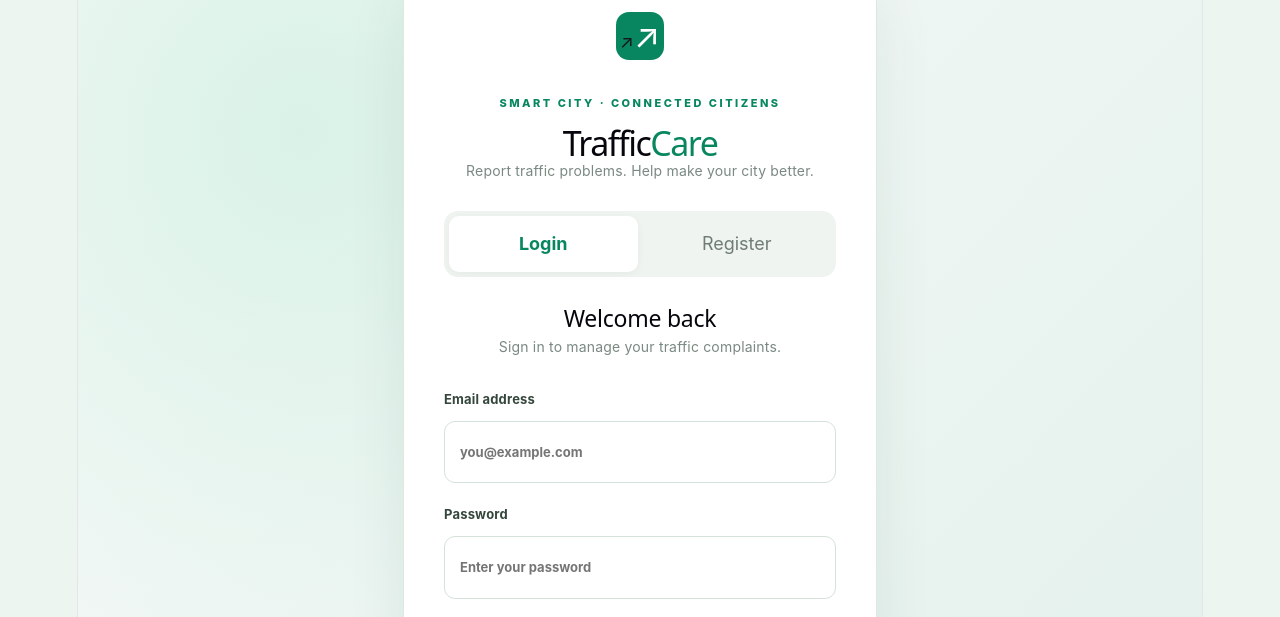
Test: TrafficCare App › submits registration details successfully
The width and height of the screenshot is (1280, 617).
Click the button "Register" at [737, 244], box [642,216,831,272]
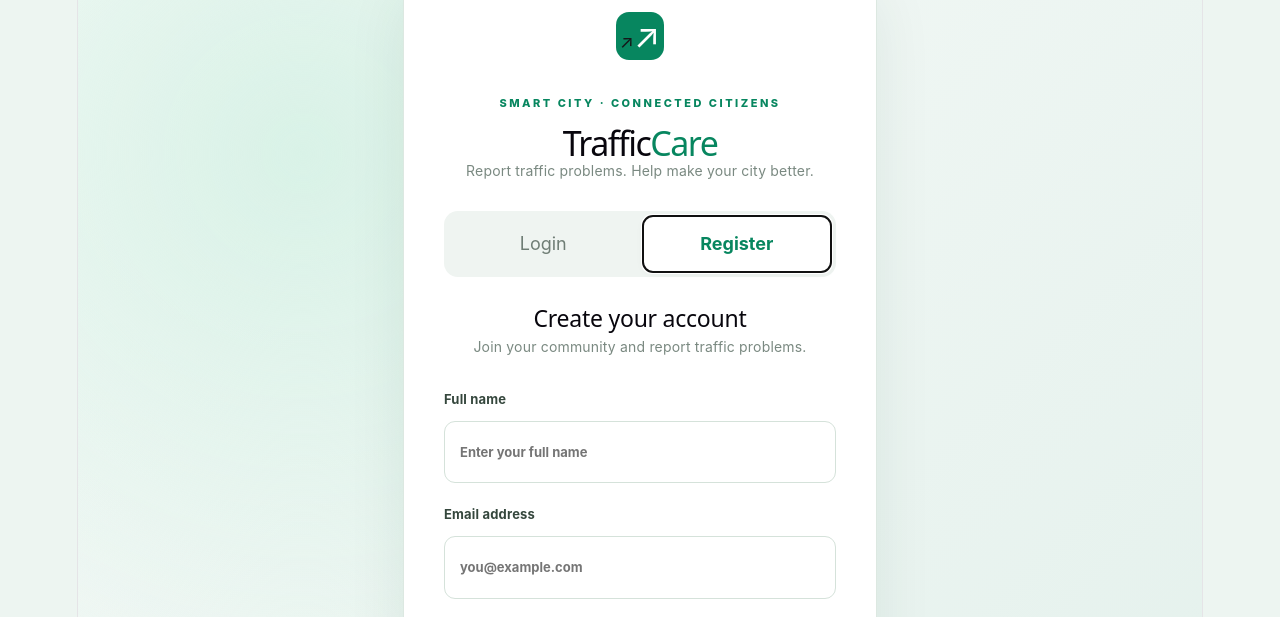
Type "Test User" into the field with placeholder "Enter your full name" at [640, 452], box [444,421,836,483]
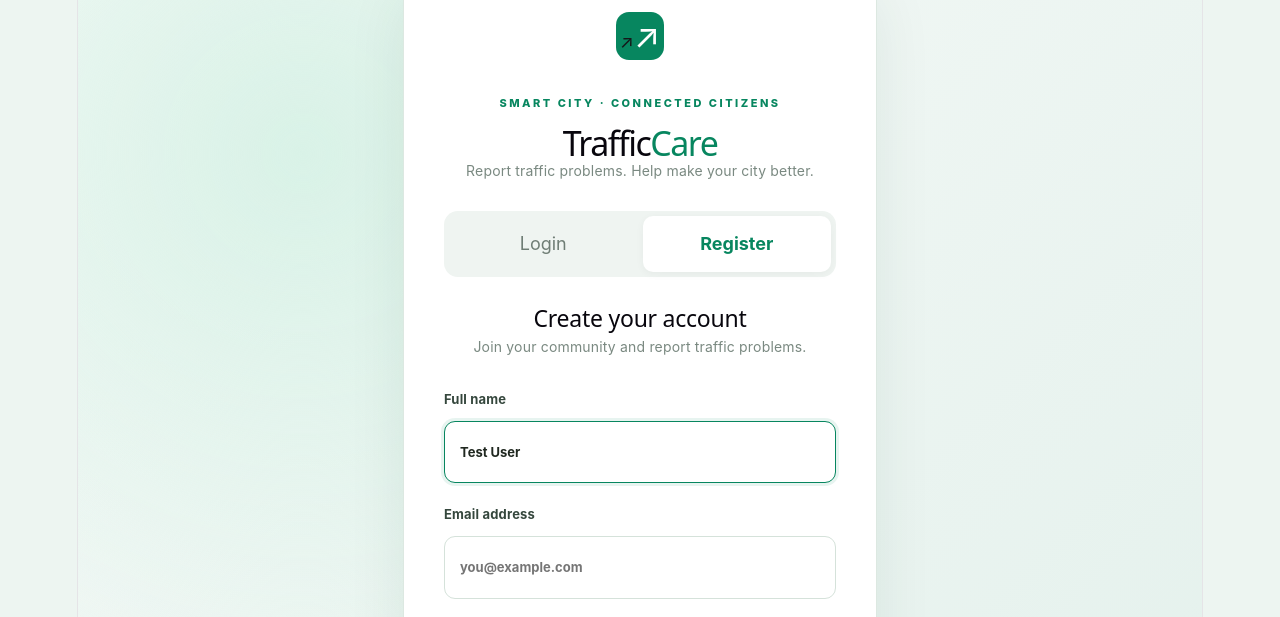
Type "test@example.com" into the field with placeholder "you@example.com" at [640, 568], box [444,536,836,599]
(page scrolled)
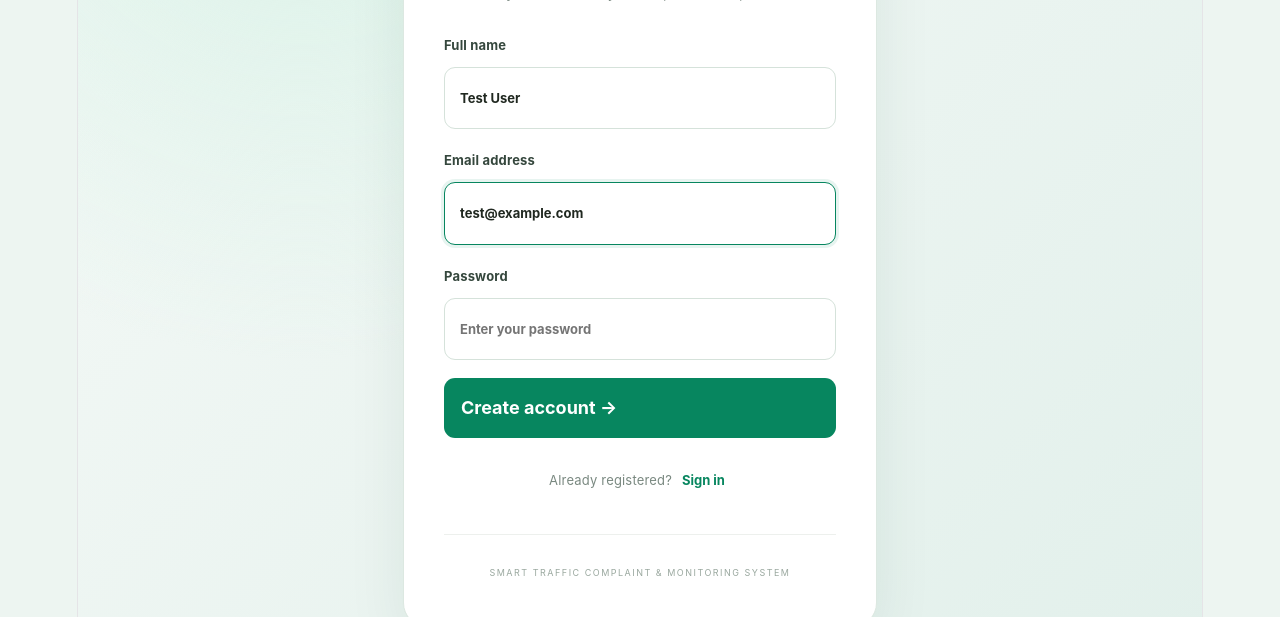
Type "password123" into the password field with placeholder "Enter your password" at [640, 329], box [444,298,836,360]
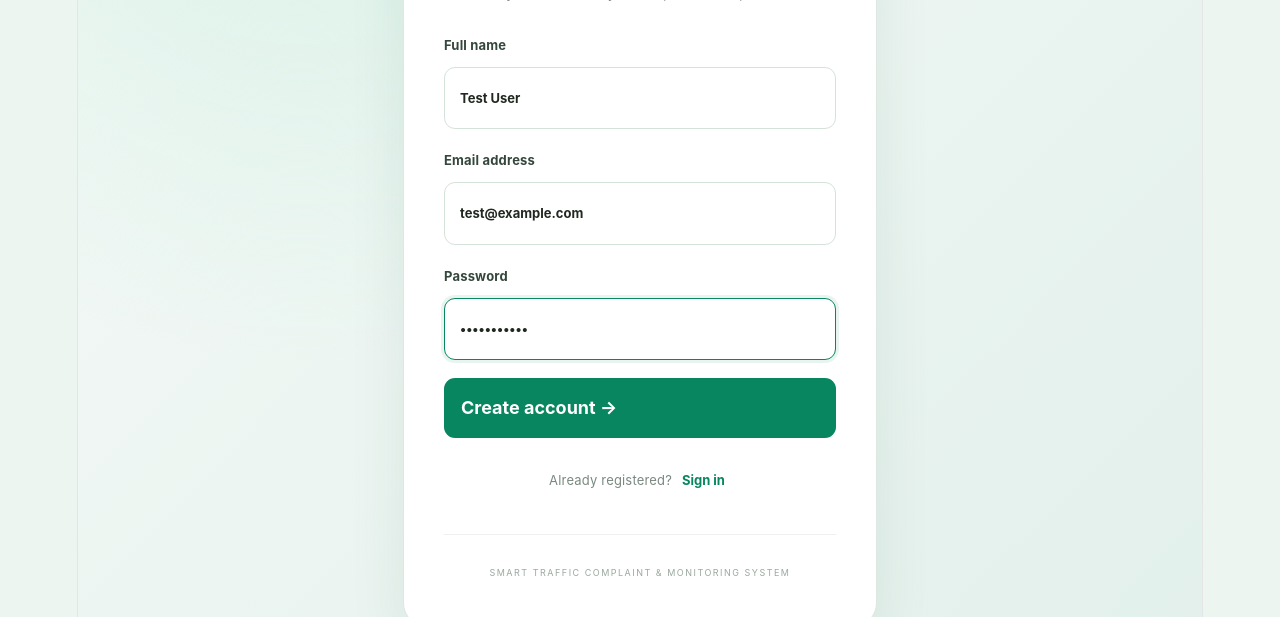
Click the button "Create account →" at [539, 407], box [444,378,836,438]
(page scrolled)
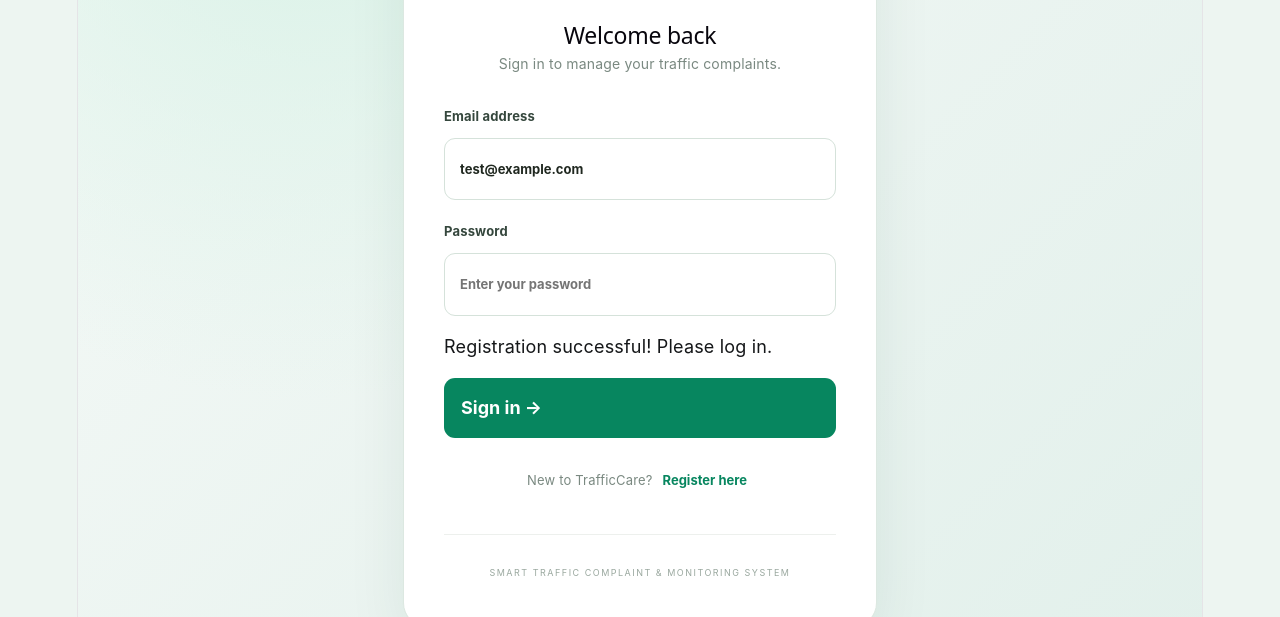
Expected: the message reads "Registration successful! Please log in.", [444,336,772,357]
